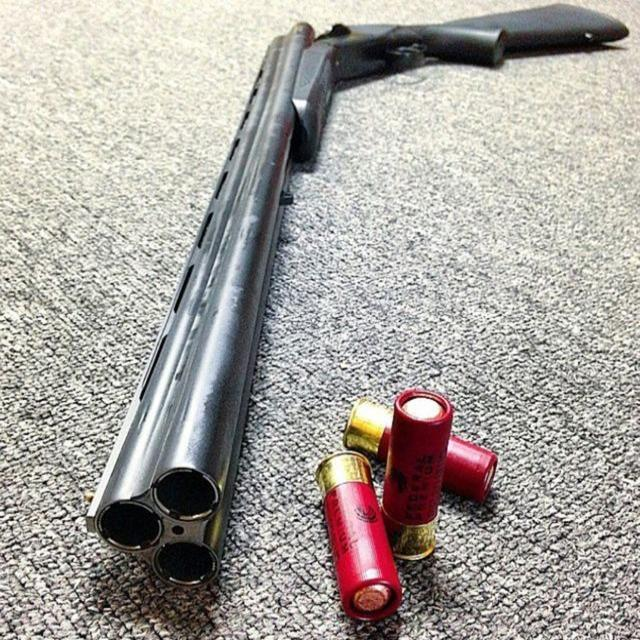shotgun: (101, 18, 640, 592)
